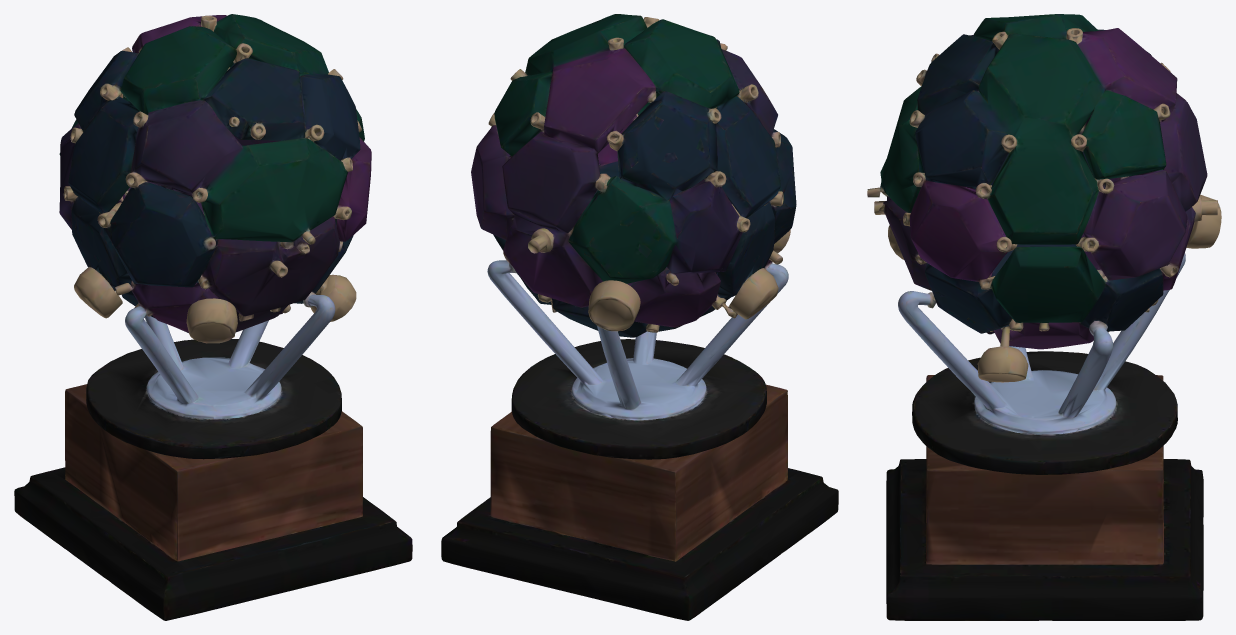
The model's file is trophy-eva01-v2-perf.glb.
3 renders of one model, left to right at view 1: azimuth 30°, elevation 25°; view 2: azimuth 150°, elevation 25°; view 3: azimuth 270°, elevation 25°, orthographic. The views are drawn at different scales.
Visible parts, largest first — view 1: world; view 2: world; view 3: world.
Part boxes in pixels (bbox=[...]): world: bbox=[14, 14, 412, 620]; world: bbox=[441, 14, 838, 620]; world: bbox=[867, 14, 1221, 620].
Bounding box in the file's own units: 0.5563 × 1 × 0.5981.
Materials: 1 (1 with a texture image).
